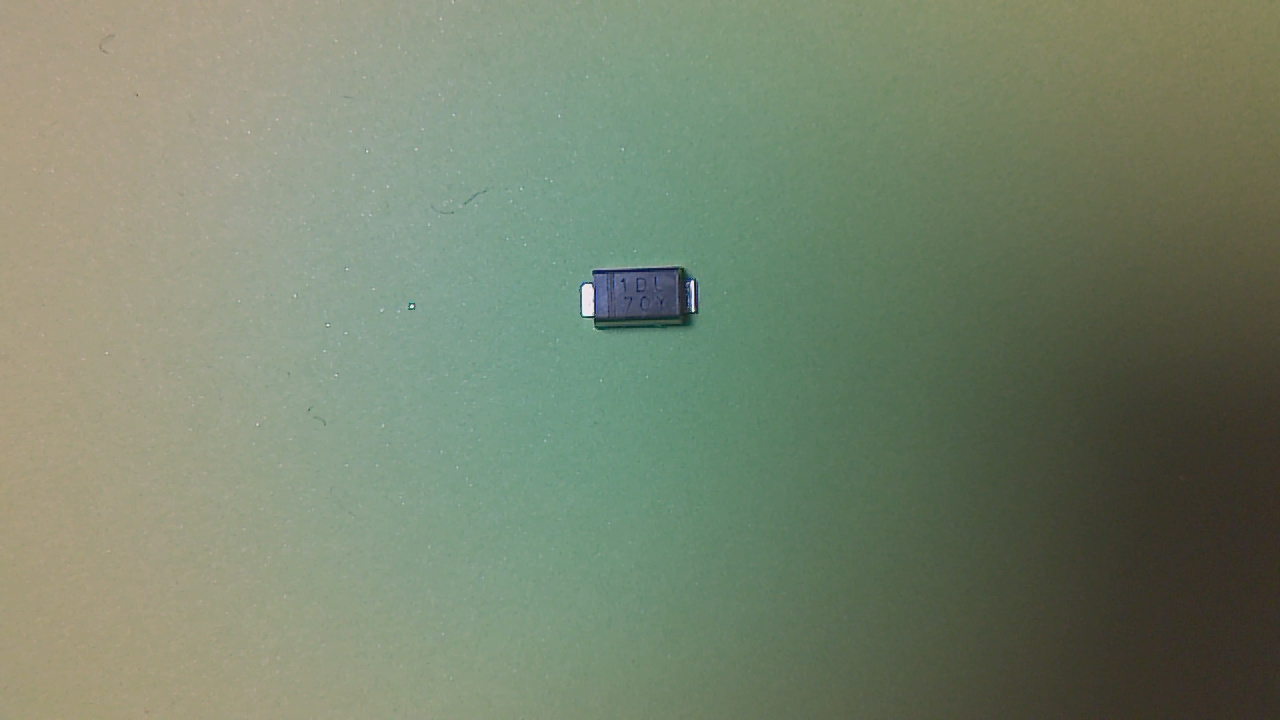Diode: (585, 266, 704, 341)
